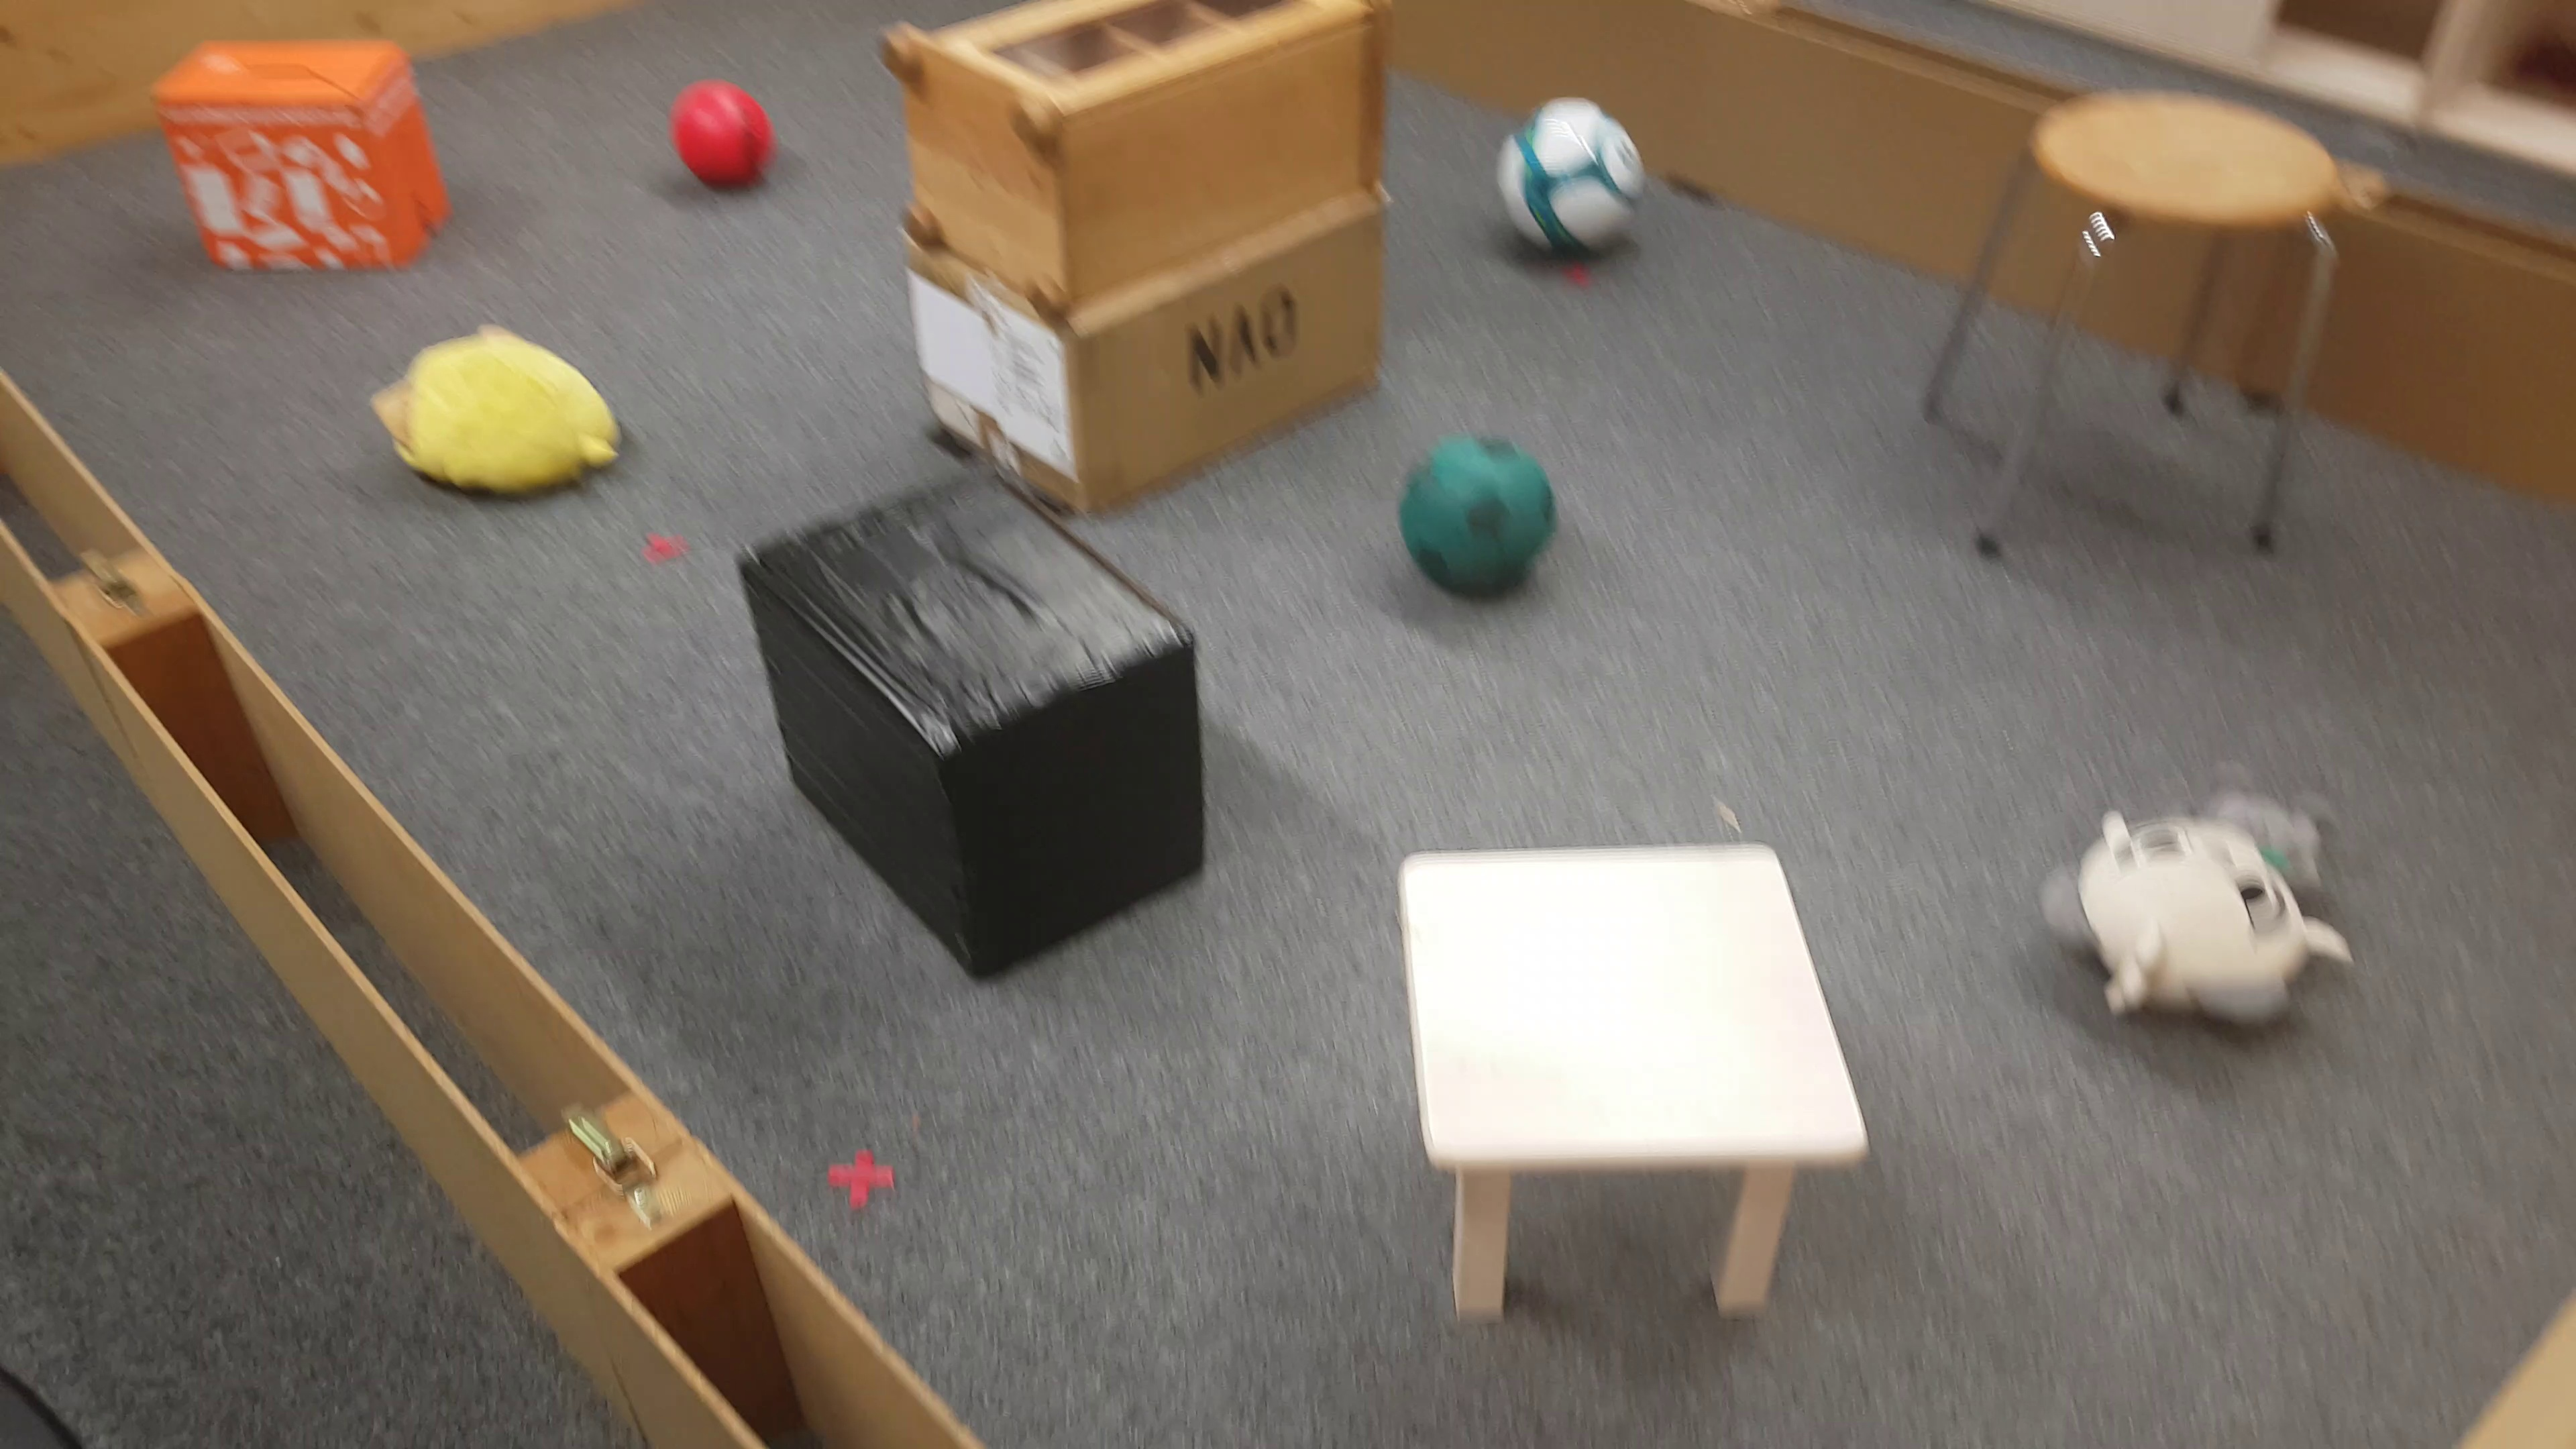grasp: (2040, 755, 2353, 1035), (370, 318, 623, 499)
kick: (1396, 432, 1557, 594), (1499, 92, 1638, 258), (669, 85, 778, 186)
push: (731, 472, 1214, 973), (163, 35, 453, 280)
